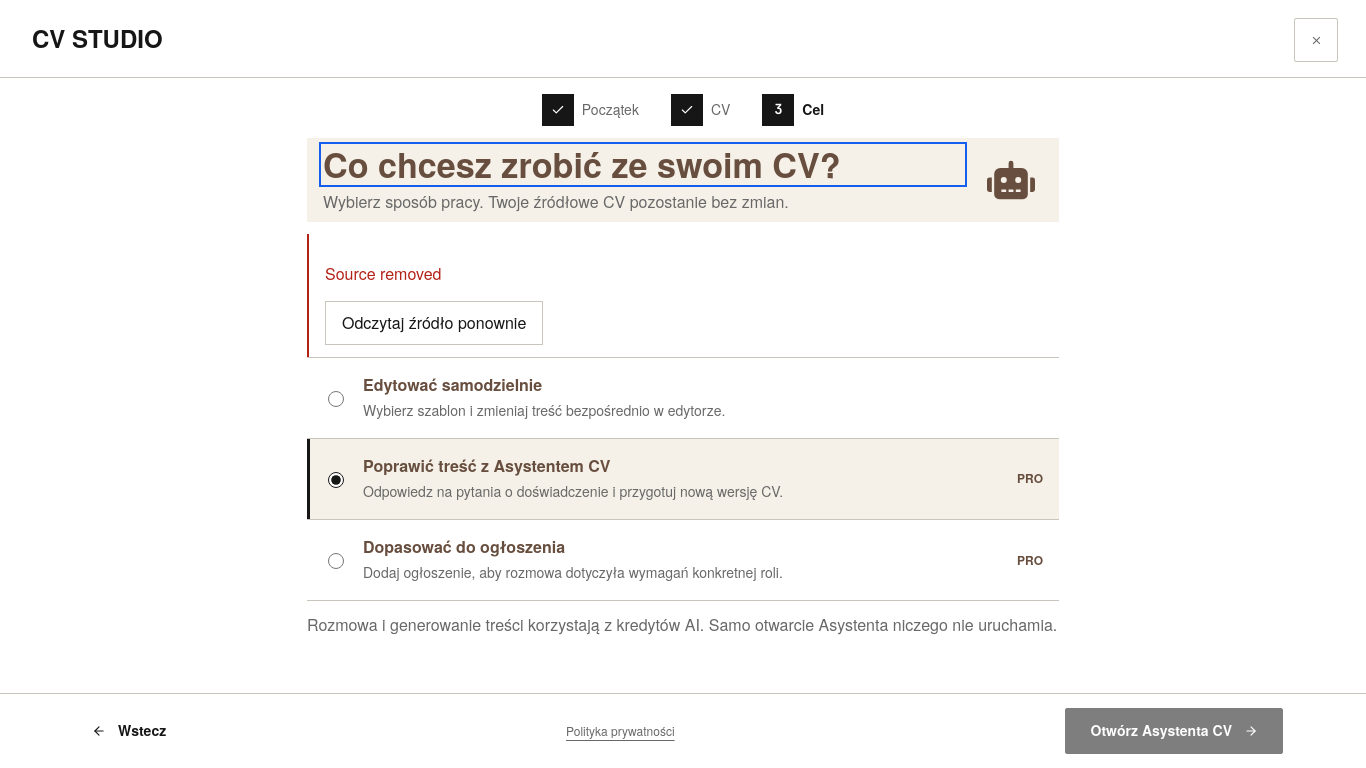
Test: CV onboarding › rehydrates owned IDs on refresh, rejects inaccessible sources and never starts AI
Expected: the text "Source removed" is shown, 325,262 -> 442,285
Expected: the button "Otwórz Asystenta CV" is disabled, 1066,708 -> 1283,754
Step 1. Click the button "Odczytaj źródło ponownie" → {"x": 434, "y": 323}, box 325,301 -> 543,345
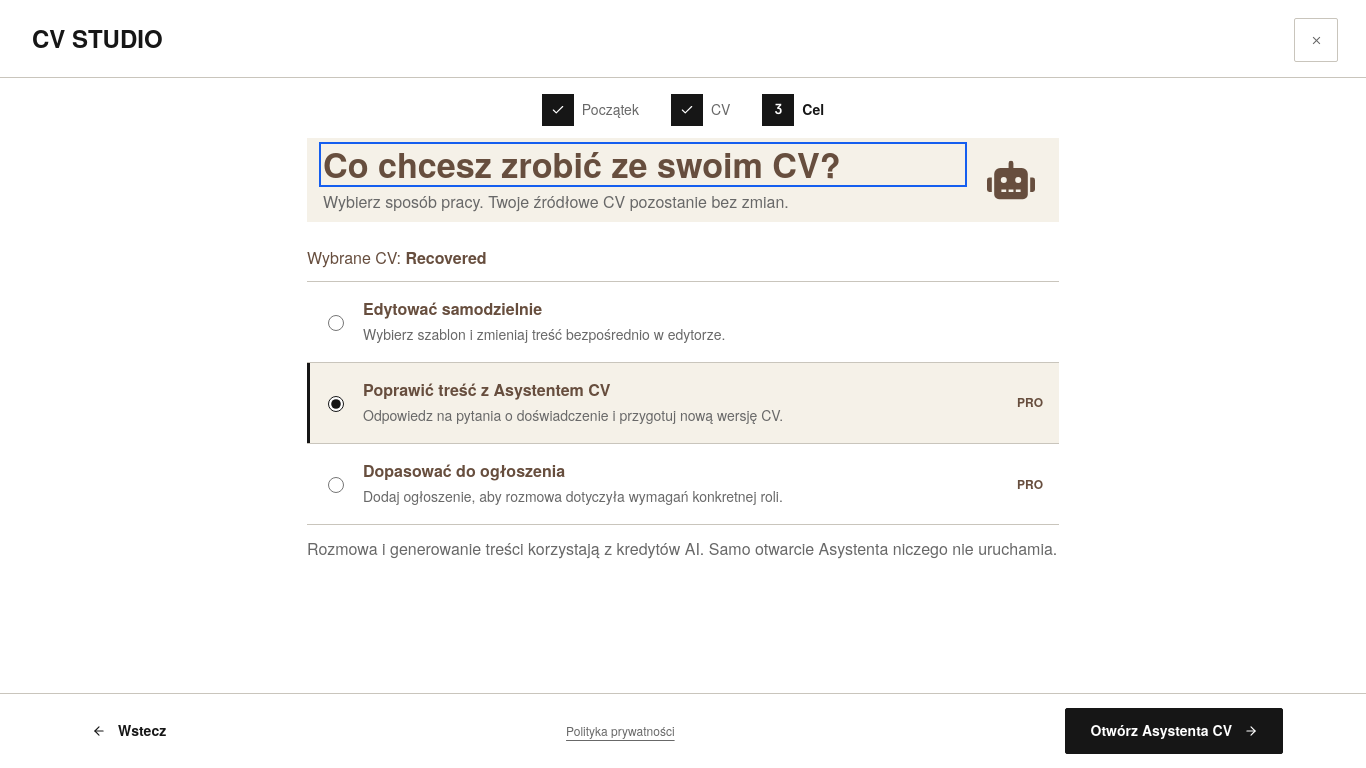
Expected: the text "Recovered" is shown, 405,246 -> 487,269
